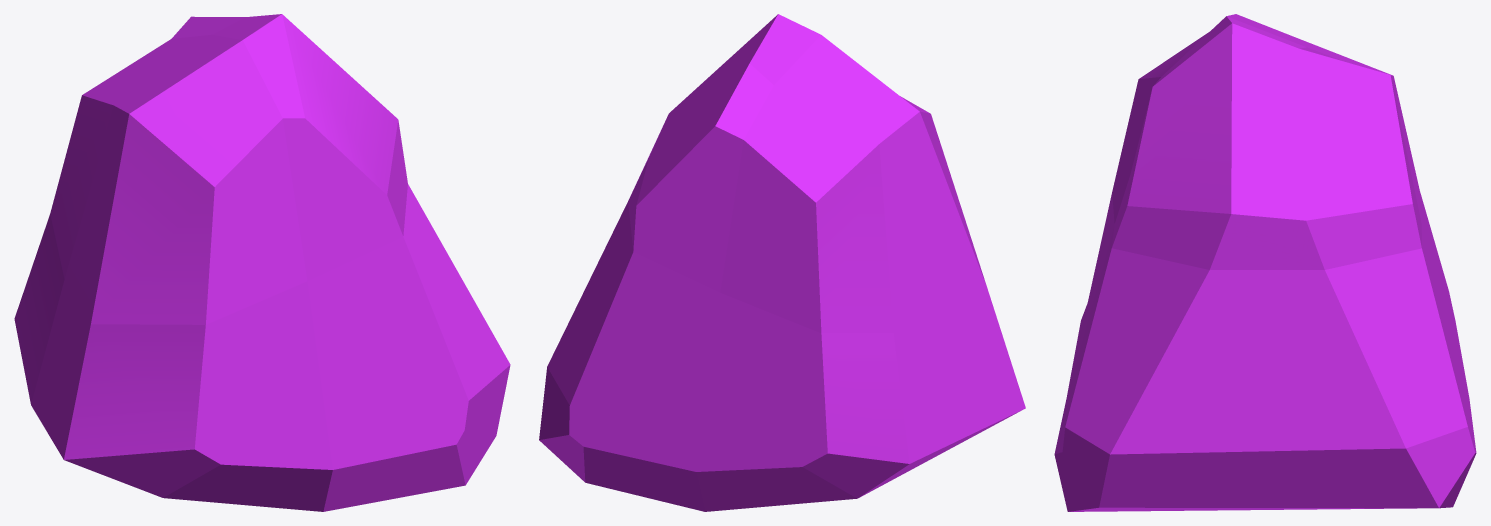
Rendered from OpalPart.fbx.
3 views of the same model, side by side, from view 1: azimuth 30°, elevation 25°; view 2: azimuth 150°, elevation 25°; view 3: azimuth 270°, elevation 25° (orthographic). The views are drawn at different scales.
Visible parts, largest first — view 1: Safir_Part; view 2: Safir_Part; view 3: Safir_Part.
Boxes of the visible parts, x1,y1,x2,y2 form: Safir_Part: (14,14,510,511); Safir_Part: (539,14,1025,511); Safir_Part: (1054,14,1476,511).
Size of the model in its own units: 0.3597 by 0.3684 by 0.3211.
